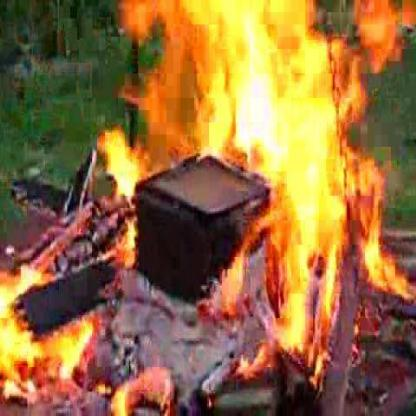fire: (91, 1, 408, 339), (0, 245, 133, 413)
